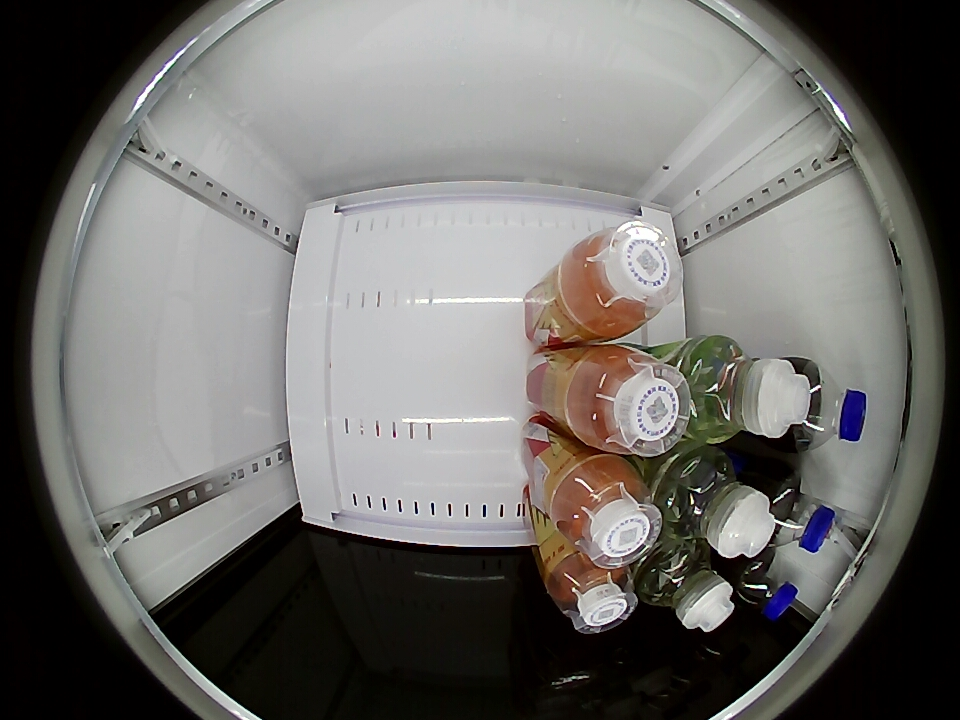baishikele-2: (787, 361, 868, 454), (762, 471, 837, 553), (729, 553, 799, 620)
dongpeng-b: (561, 220, 682, 338), (568, 344, 691, 455), (550, 456, 662, 565), (547, 548, 635, 633)
jianjiao: (681, 337, 810, 445), (657, 447, 776, 559), (636, 539, 735, 632)
